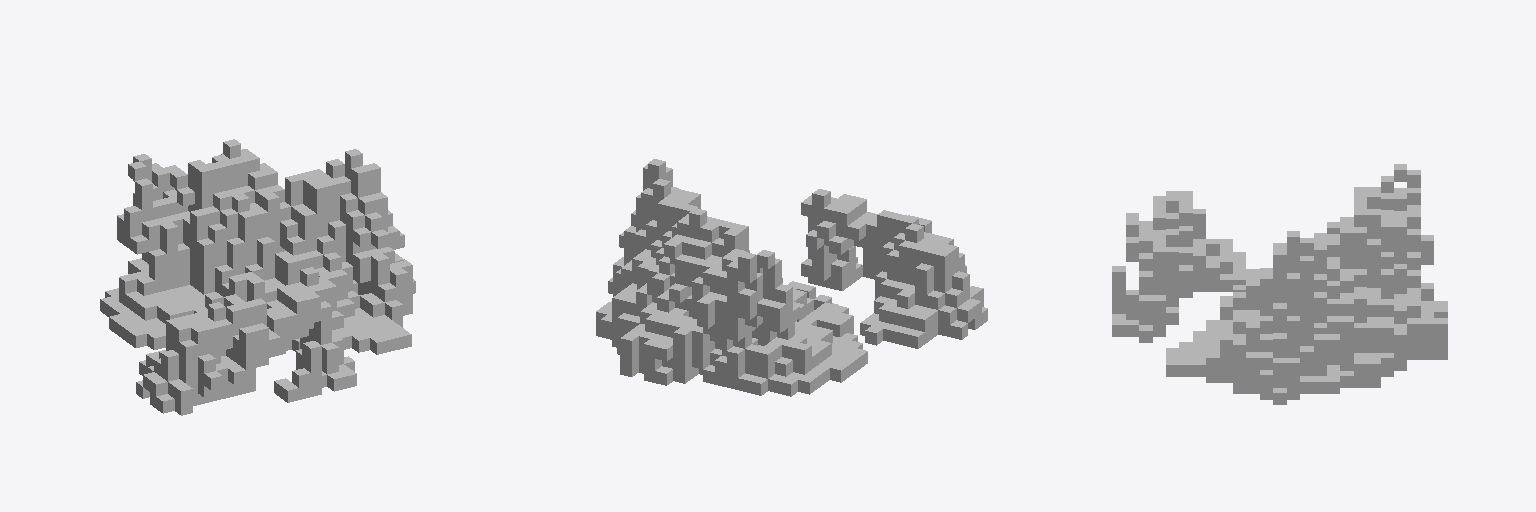
Rendered from Rock2.obj.
The picture shows the model from 3 angles: view 1: azimuth 30°, elevation 25°; view 2: azimuth 150°, elevation 25°; view 3: azimuth 270°, elevation 25°; orthographic projection.
Visible parts, largest first — view 1: Rock2; view 2: Rock2; view 3: Rock2.
Boxes of the visible parts, box(x1,y1,x2,y2) form: Rock2: box(100, 139, 415, 415); Rock2: box(596, 159, 987, 396); Rock2: box(1112, 164, 1447, 404).
Bounding box in the file's own units: 27 × 12 × 25.